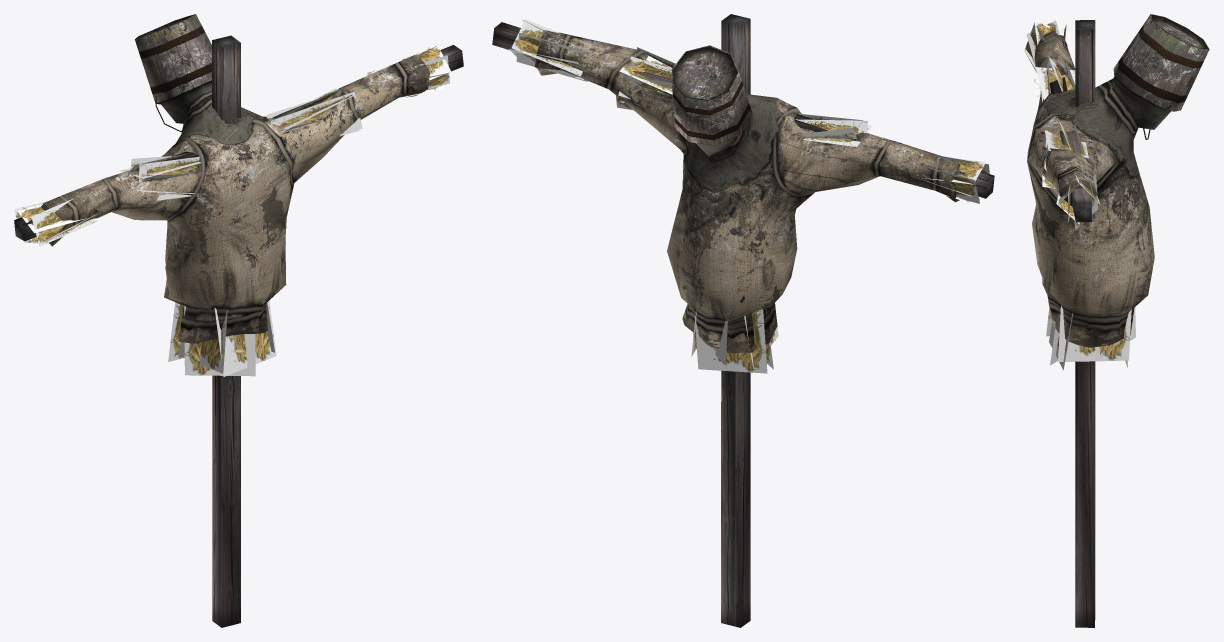
File: smartinius_scarecrow_complete_mesh.glb
The picture shows the model from 3 angles, left to right: view 1: azimuth 30°, elevation 25°; view 2: azimuth 150°, elevation 25°; view 3: azimuth 270°, elevation 25°; orthographic projection. The views are drawn at different scales.
Visible parts, largest first — view 1: Object_2; view 2: Object_2; view 3: Object_2.
Boxes of the visible parts, x1,y1,x2,y2 form: Object_2: (14, 14, 463, 627); Object_2: (492, 14, 994, 627); Object_2: (1023, 14, 1209, 627).
Size of the model in its own units: 103 by 125 by 35.15.
1 material, 1 textured.
